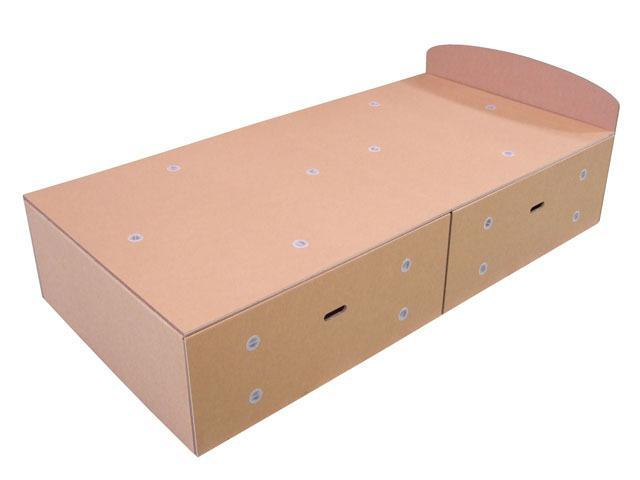box: (14, 38, 623, 456)
